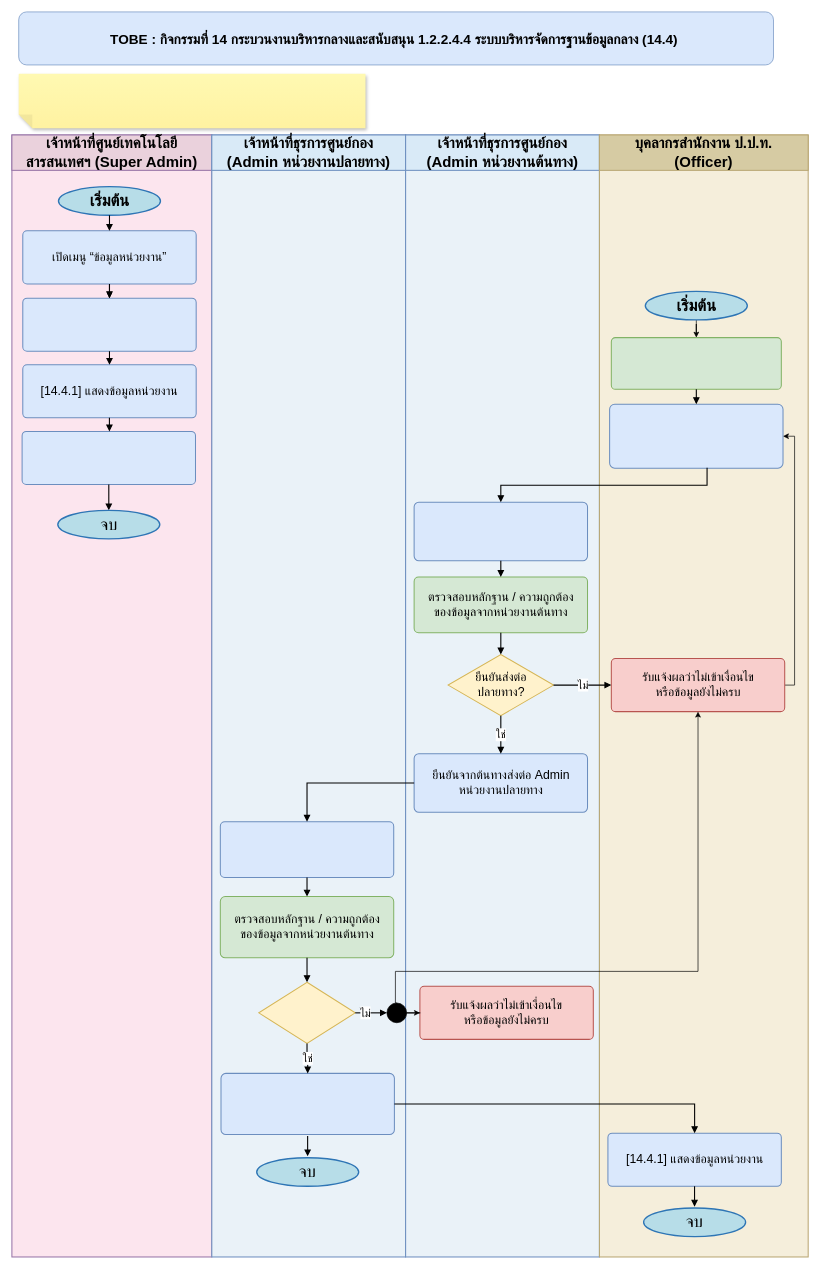
Image size: 821x1270. Some labels were removed from this diagram. Each missing label, with the centre of its shape:
14.4.1 สามารถบริหารจัดการข้อมูลหน่วยงานได้: pixel 192 102
[14.4.1] ดำเนินการจัดโครงสร้างเริ่มต้น: pixel 109 324
[14.4.1] รับคำขอจาก Officer: pixel 500 531
[14.4.1] สามารถ จัดการ บริหารจัดการข้อมูลหน่วยงานได้: pixel 108 458
[14.4.1] แจ้งคำขอแก้ไข/ย้ายหน่วยงาน พร้อมข้อมูลประกอบให้ Admin ต้นทาง: pixel 696 435
ตรวจสอบข้อมูลหน่วยงาน / สังกัดที่ตนใช้งาน: pixel 696 363
บันทึกยืนยันรับเข้าหน่วยงาน: pixel 307 1104
รับคำขอที่ผ่านการยืนยัน จาก Admin หน่วยงานต้นทาง: pixel 307 849
รับเข้า หน่วยงาน ?: pixel 306 1012
